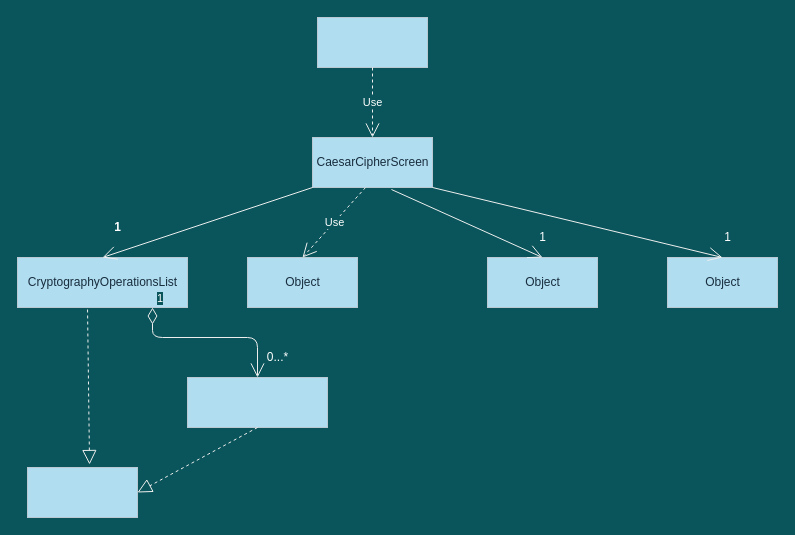
The diagram is 795 pixels wide and 535 high, and some of its shapes have lost their labels. The shapes that lost their labels are listed below. From the top down, each one's box as (x1, y1, x2, y2) in pixels, then its label:
(316, 16, 428, 68): Main
(186, 376, 328, 428): CryptographyOperation
(26, 466, 138, 518): «interface» Writable
